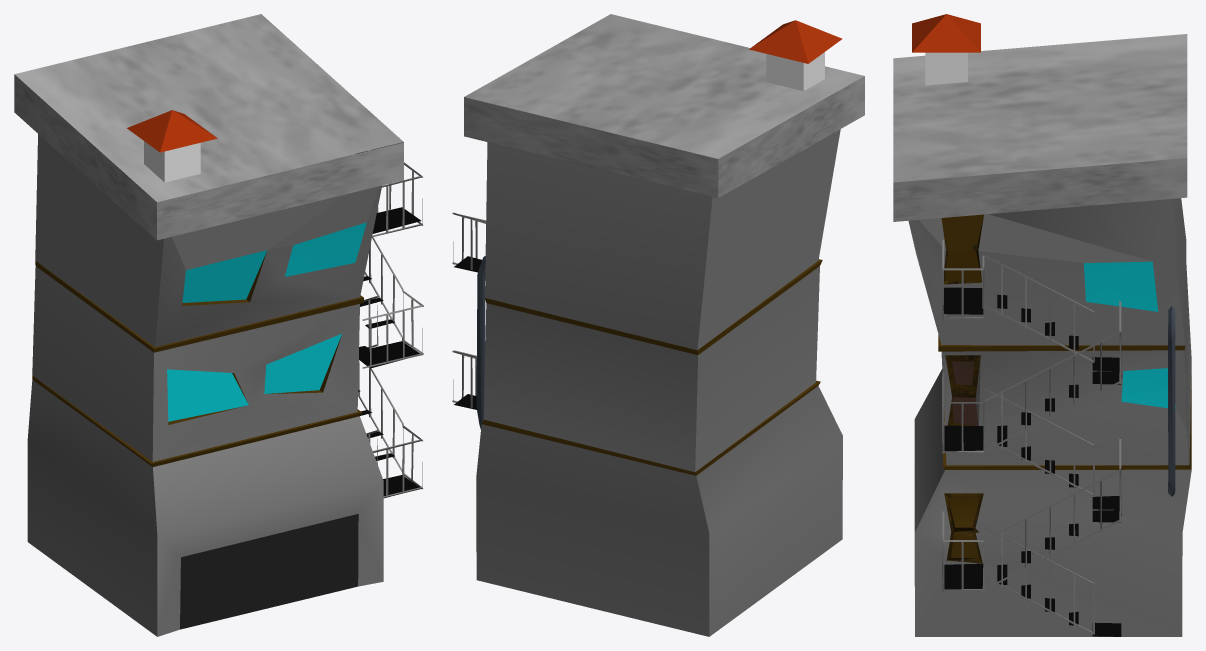
The model's file is PredioTorto-CinzaLOD1.fbx.
The picture shows the model from 3 angles, left to right: view 1: azimuth 30°, elevation 25°; view 2: azimuth 150°, elevation 25°; view 3: azimuth 270°, elevation 25°; orthographic projection. The views are drawn at different scales.
Parts seen in each view (by area): view 1: Predio3AndaresLOD1; view 2: Predio3AndaresLOD1; view 3: Predio3AndaresLOD1.
Boxes of the visible parts, x1,y1,x2,y2 form: Predio3AndaresLOD1: [14, 14, 423, 636]; Predio3AndaresLOD1: [452, 14, 864, 636]; Predio3AndaresLOD1: [893, 14, 1191, 636].
Bounding box in the file's own units: 1035 × 1727 × 892.
